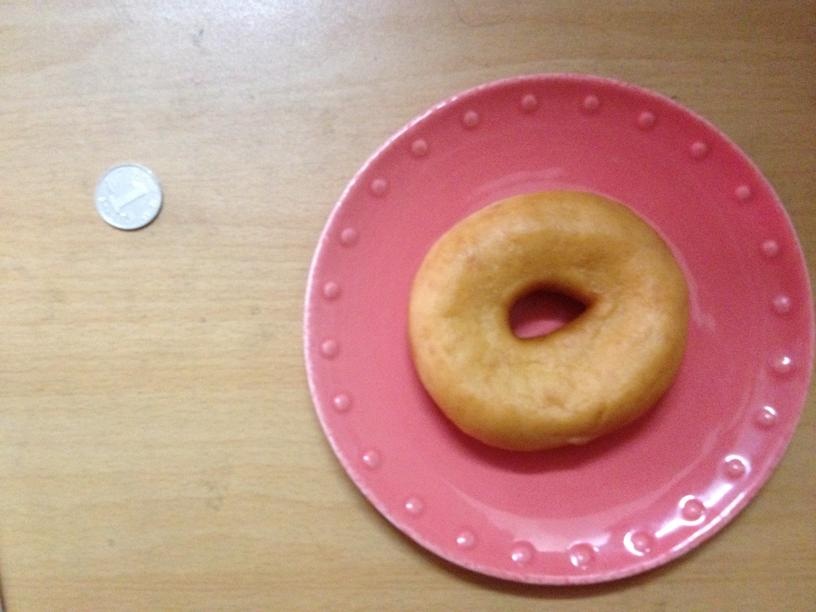coin: (95, 164, 161, 231)
doughnut: (412, 195, 688, 453)
